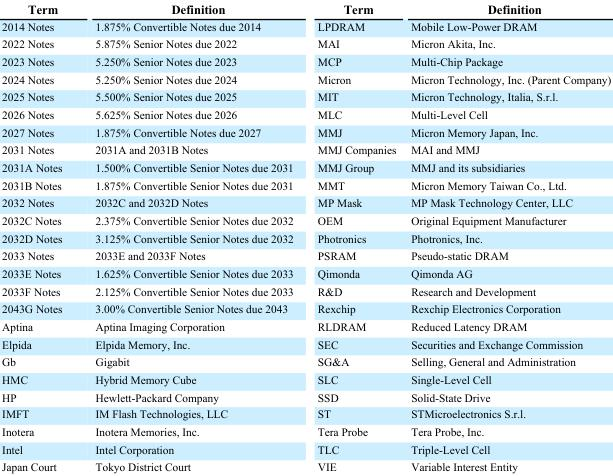table: (1, 1, 610, 472)
table column: (77, 1, 304, 472), (402, 1, 610, 472), (304, 1, 402, 472), (1, 1, 77, 472)
table column header: (1, 1, 610, 17)
table row: (1, 34, 610, 52), (1, 69, 610, 87), (1, 87, 610, 105), (1, 122, 610, 140), (1, 140, 610, 158), (1, 175, 610, 193), (1, 193, 610, 211), (1, 228, 610, 246), (1, 246, 610, 264), (1, 264, 610, 282), (1, 299, 610, 317), (1, 317, 610, 335), (1, 352, 610, 370), (1, 370, 610, 388), (1, 439, 610, 457), (1, 17, 610, 34), (1, 52, 610, 69), (1, 105, 610, 122), (1, 158, 610, 175), (1, 211, 610, 228), (1, 282, 610, 299), (1, 335, 610, 352), (1, 388, 610, 405), (1, 405, 610, 422), (1, 422, 610, 439), (1, 1, 610, 17), (1, 457, 610, 472)
